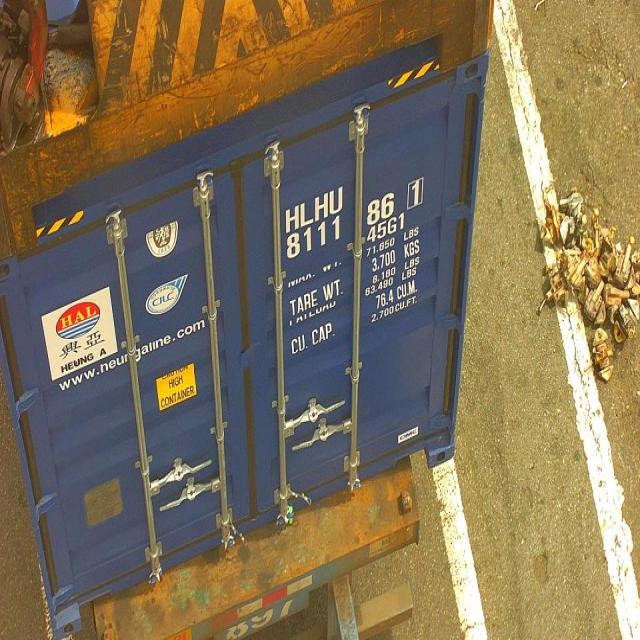ISO: (368, 214, 406, 248)
container_number: (283, 172, 427, 261)
